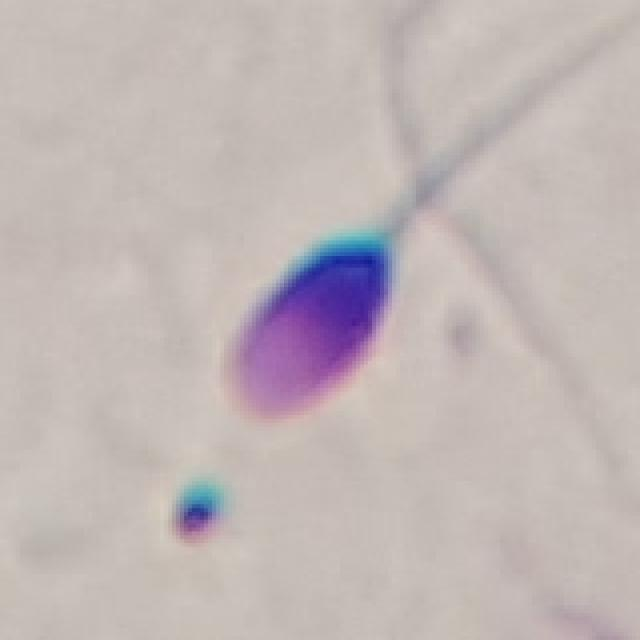normal sperm: (224, 173, 440, 422)
